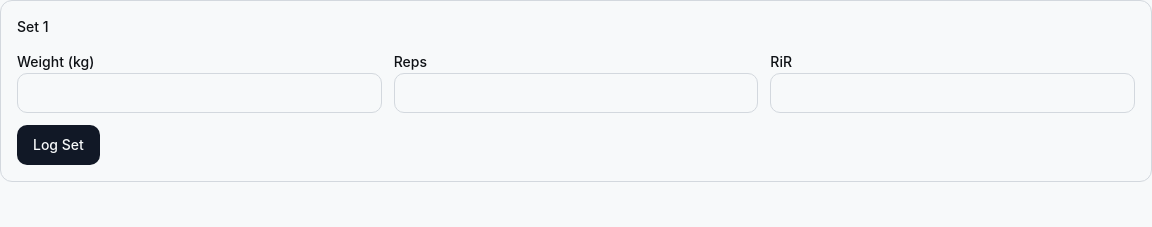
Scenario: SetInput › shows validation error when a negative weight is entered
Type "-5" into the field labelled "Weight (kg)" at (199, 93), box [17, 73, 382, 113]
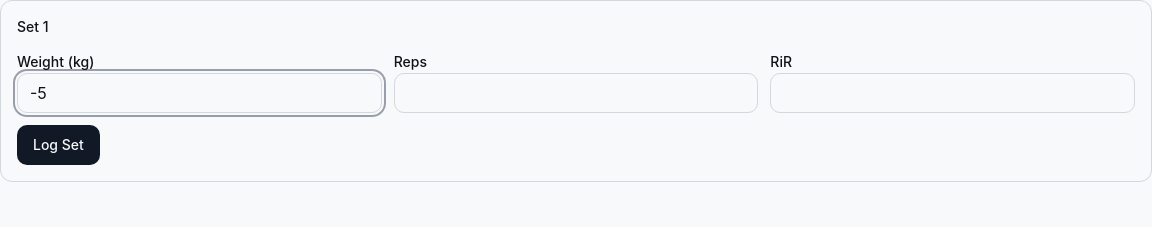
Click the button "Log Set" at (58, 145), box [17, 125, 100, 165]
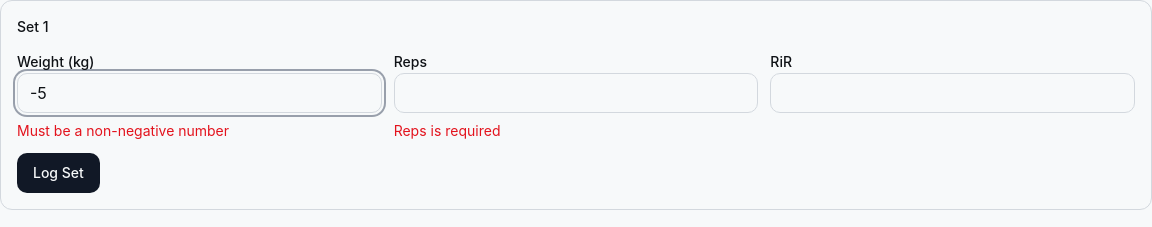
Expected: the text "Must be a non-negative number" is shown, [17, 122, 229, 139]
